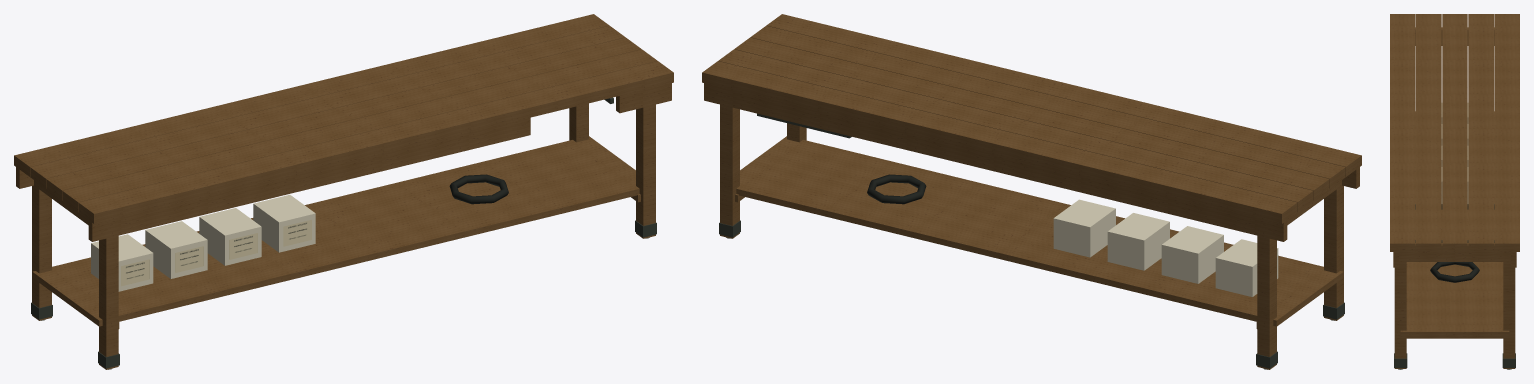
The model's file is SM_FieldKit_TimingBench_LOD1.glb.
The picture shows the model from 3 angles, left to right: view 1: azimuth 30°, elevation 25°; view 2: azimuth 150°, elevation 25°; view 3: azimuth 270°, elevation 25°; orthographic projection. The views are drawn at different scales.
Visible parts, largest first — view 1: SM_FieldKit_TimingBench_LOD1; view 2: SM_FieldKit_TimingBench_LOD1; view 3: SM_FieldKit_TimingBench_LOD1.
Boxes of the visible parts, x1,y1,x2,y2 form: SM_FieldKit_TimingBench_LOD1: (14,14,673,369); SM_FieldKit_TimingBench_LOD1: (702,14,1361,369); SM_FieldKit_TimingBench_LOD1: (1390,14,1519,369).
Bounding box in the file's own units: 3 × 0.812 × 0.717.
6 materials, 3 textured.
